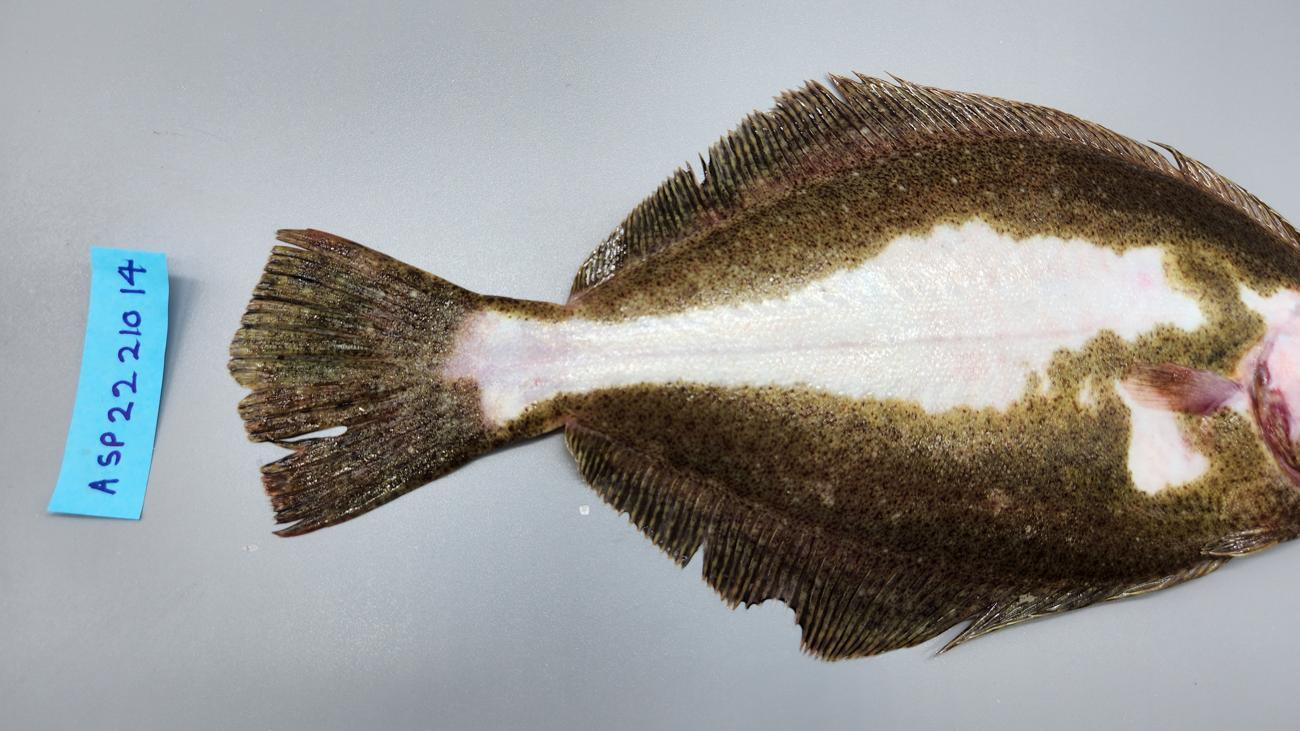SPDYH: (507, 387, 1068, 522), (948, 314, 1126, 381), (1131, 272, 1162, 297)
